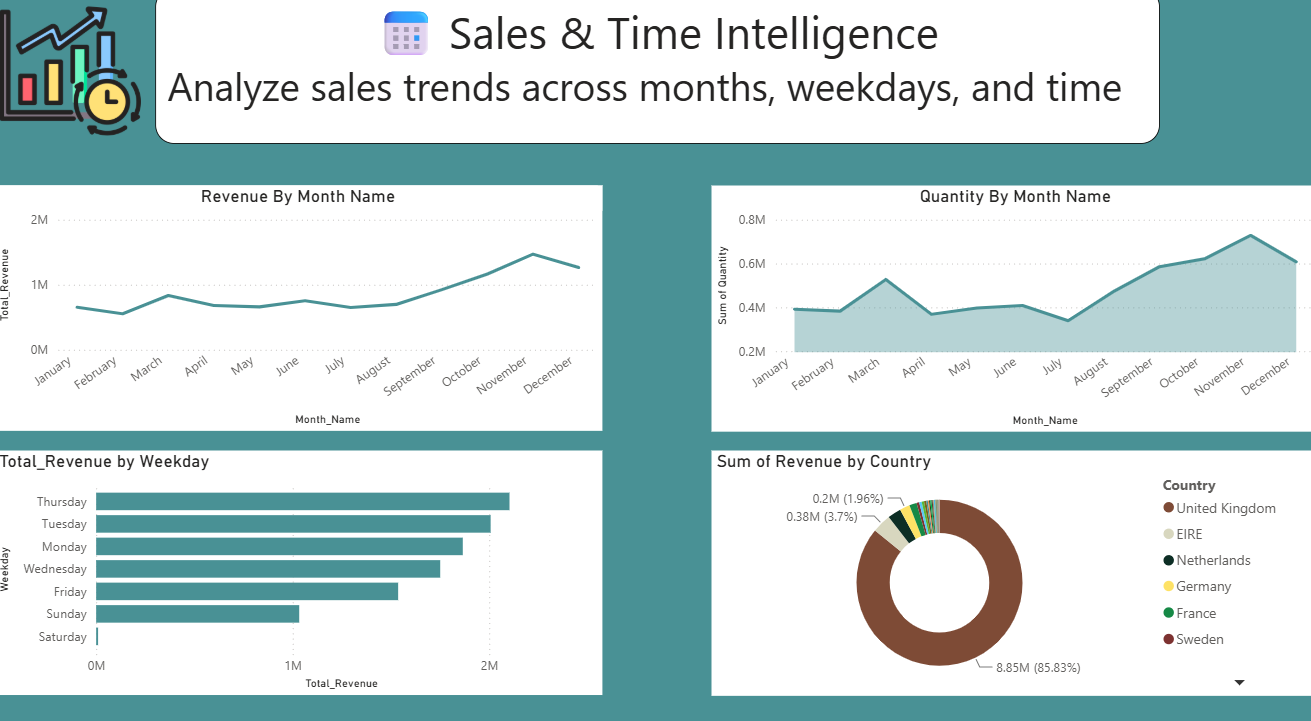

Layout of this report page (visuals, bound fields, positions):
{"tool":"powerbi","page":{"name":"Sales & Time Intelligence","canvas":[1280,720],"ordinal":2},"visuals":[{"type":"textbox","box":[155.8,0,969.7,150.3],"z":0},{"type":"lineChart","title":"Revenue By Month Name","fields":{"Category":["retail_db clean retail data csv.Month_Name"],"Y":["retail_db clean retail data csv.Total_Revenue"]},"box":[0,190.6,587.1,236.5],"z":1000},{"type":"areaChart","title":"Quantity By Month Name","fields":{"Category":["retail_db clean retail data csv.Month_Name"],"Y":["Sum(retail_db clean retail data csv.Quantity)"]},"box":[692.9,190.6,587.1,237.9],"z":2000},{"type":"donutChart","fields":{"Y":["Sum(retail_db clean retail data csv.Revenue)"],"Category":["retail_db clean retail data csv.Country"]},"box":[692.5,446.4,587.5,236.5],"z":2002},{"type":"clusteredBarChart","fields":{"Y":["retail_db clean retail data csv.Total_Revenue"],"Category":["retail_db clean retail data csv.Weekday"]},"box":[0,446,587,236],"z":2003},{"type":"image","box":[0,9.7,147.2,141.2],"z":2004}]}

Visuals, with their boxes in screenshot pixels (x1, y1, x2, y2), scaled from the page's 1280x720 canvas onto the 1311x721 screenshot:
textbox: [160, 0, 1153, 151]
"Revenue By Month Name" lineChart: [0, 191, 601, 428]
"Quantity By Month Name" areaChart: [710, 191, 1310, 429]
donutChart - Sum(retail_db clean retail data csv.Revenue) x retail_db clean retail data csv.Country: [709, 447, 1310, 684]
clusteredBarChart - retail_db clean retail data csv.Total_Revenue x retail_db clean retail data csv.Weekday: [0, 447, 601, 683]
image: [0, 10, 151, 151]
